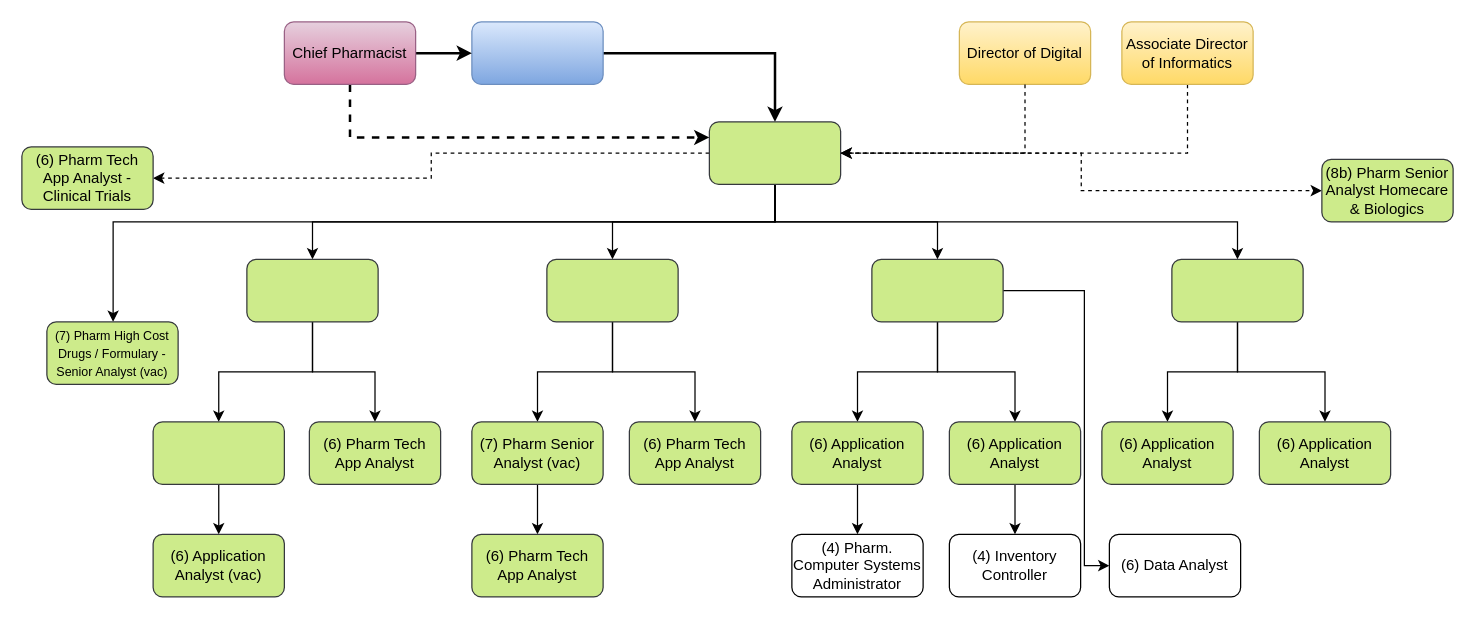
Image size: 1475x619. Some labels were removed from this diagram. Each missing label, with the centre of its shape:
"(7) Pharm Senior Analyst" belongs at (x=218, y=452).
"(8a) APP TL WAMB" belongs at (x=1237, y=290).
"(8a) PHARM APP TL WIP" belongs at (x=312, y=290).
"(8a) PHARM APP TL WIP / Beacon" belongs at (x=612, y=290).
"(8a) PHARM TECH SYSTEMS LEAD TL WINV" belongs at (x=937, y=290).
"Deputy Chief Pharmacist" belongs at (x=537, y=52).
"POST" belongs at (x=774, y=152).
